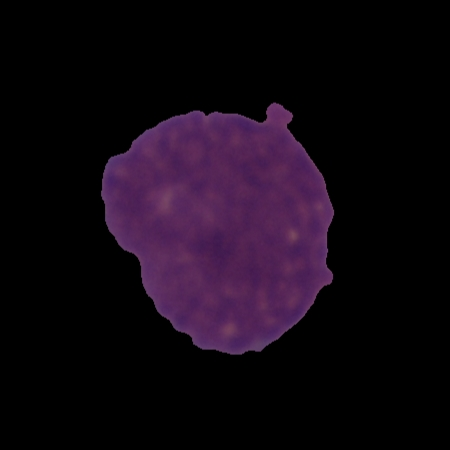HEM: (98, 99, 340, 358)
